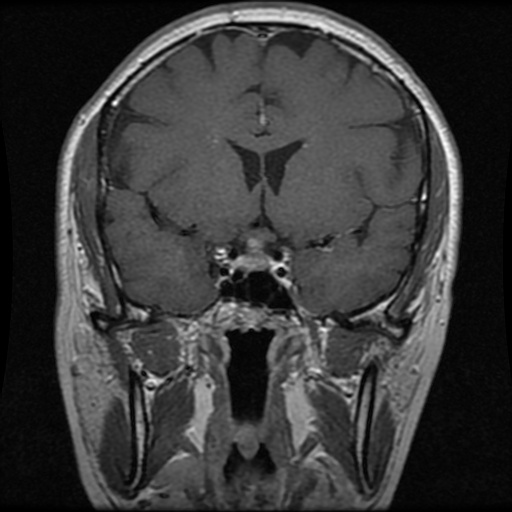pituitary: (233, 236, 274, 272)
